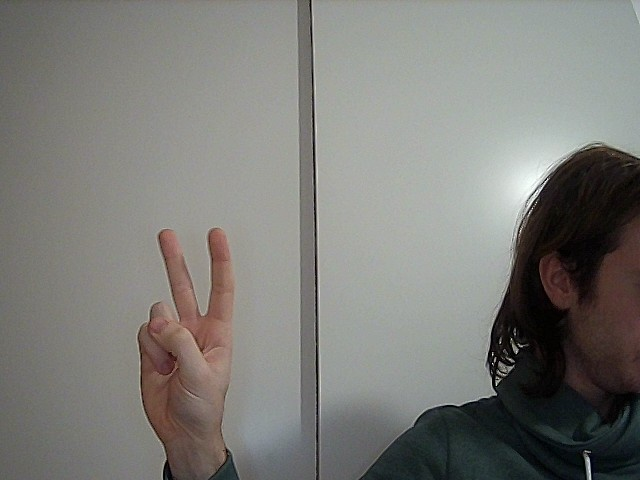v: (124, 219, 247, 436)
